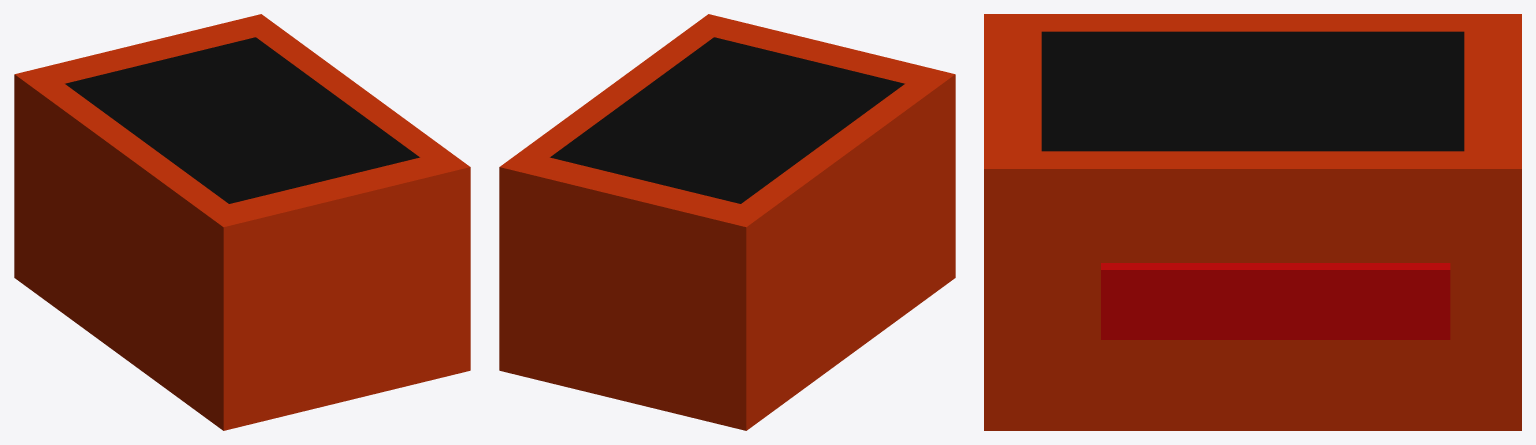
Rendered from Caja.fbx.
3 renders of one model, left to right at view 1: azimuth 30°, elevation 25°; view 2: azimuth 150°, elevation 25°; view 3: azimuth 270°, elevation 25°, orthographic. The views are drawn at different scales.
Visible parts, largest first — view 1: Caja; view 2: Caja; view 3: Caja.
Boxes of the visible parts, <box> form: Caja: <box>14,14,470,430</box>; Caja: <box>499,14,955,430</box>; Caja: <box>984,14,1521,430</box>.
Size of the model in its own units: 941 by 711 by 1322.
